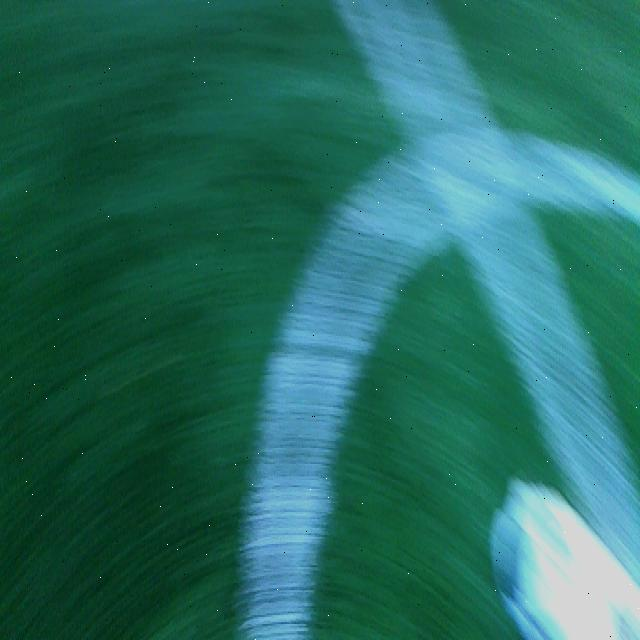ball: (492, 473, 625, 640)
